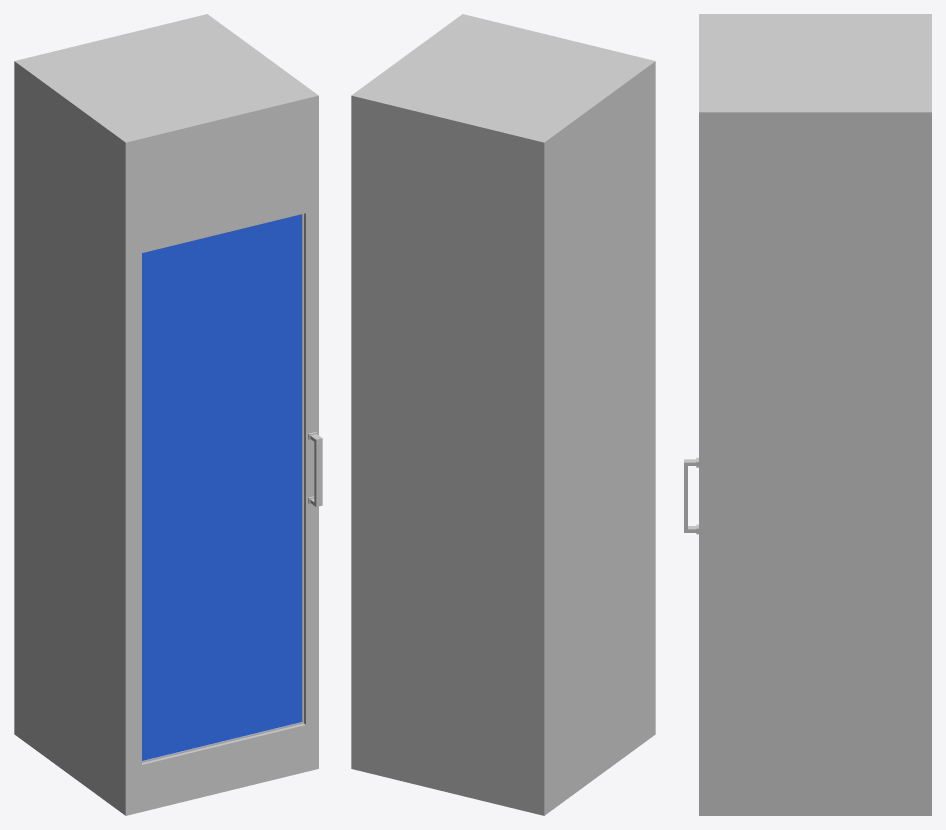
Rendered from Fridge_f13xen.fbx.
3 renders of one model, left to right at view 1: azimuth 30°, elevation 25°; view 2: azimuth 150°, elevation 25°; view 3: azimuth 270°, elevation 25°, orthographic. The views are drawn at different scales.
Parts seen in each view (by area): view 1: Fridge_f13xen, Fridge_f13xen_Door; view 2: Fridge_f13xen, Fridge_f13xen_Door; view 3: Fridge_f13xen, Fridge_f13xen_Door.
Boxes of the visible parts, left/top/right/bottom form: Fridge_f13xen: left=14, top=14, right=318, bottom=815; Fridge_f13xen_Door: left=121, top=196, right=322, bottom=782; Fridge_f13xen: left=351, top=14, right=655, bottom=815; Fridge_f13xen_Door: left=651, top=162, right=655, bottom=703; Fridge_f13xen: left=699, top=14, right=931, bottom=815; Fridge_f13xen_Door: left=684, top=218, right=708, bottom=780.
Bounding box in the file's own units: 60 × 200 × 63.83.
